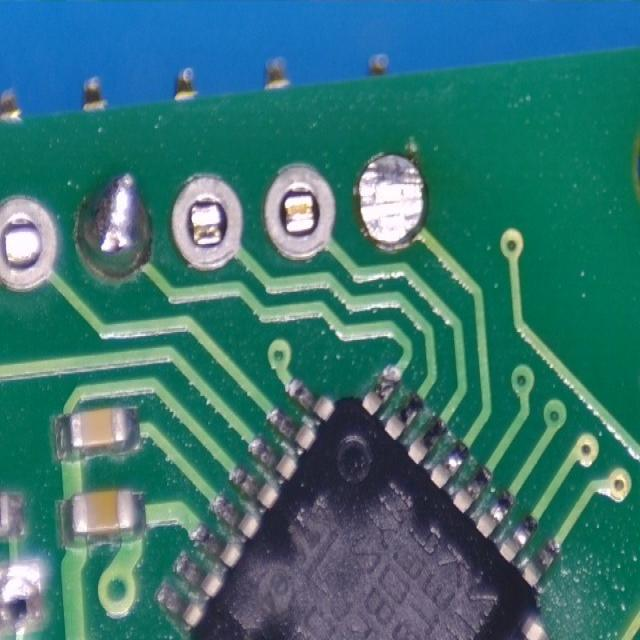Dry_joint: (80, 173, 150, 275)
